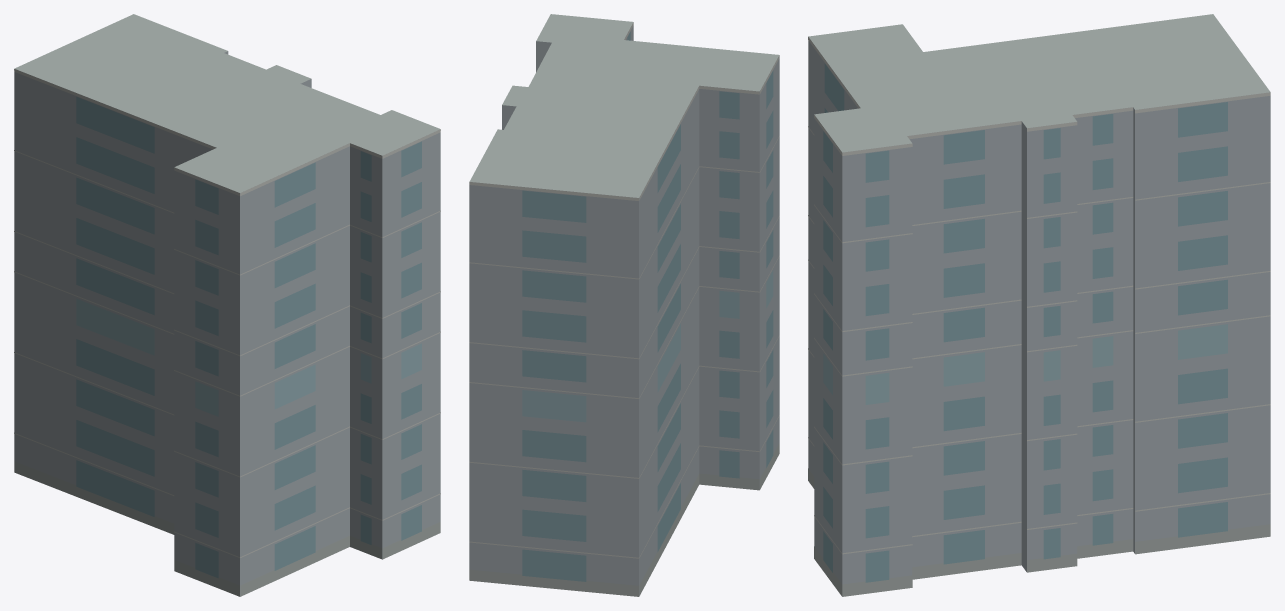
File: survey-upis-32560908.glb
3 renders of one model, left to right at view 1: azimuth 30°, elevation 25°; view 2: azimuth 150°, elevation 25°; view 3: azimuth 270°, elevation 25°, orthographic. The views are drawn at different scales.
Visible parts, largest first — view 1: survey-upis-32560908.tmp; view 2: survey-upis-32560908.tmp; view 3: survey-upis-32560908.tmp.
Boxes of the visible parts, x1,y1,x2,y2 form: survey-upis-32560908.tmp: (14,14,440,596); survey-upis-32560908.tmp: (469,14,779,596); survey-upis-32560908.tmp: (808,14,1270,596).
Bounding box in the file's own units: 20.69 × 30.9 × 29.17.
